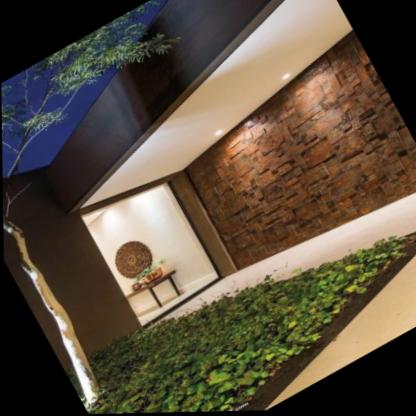Wall Panel: (181, 30, 416, 274)
